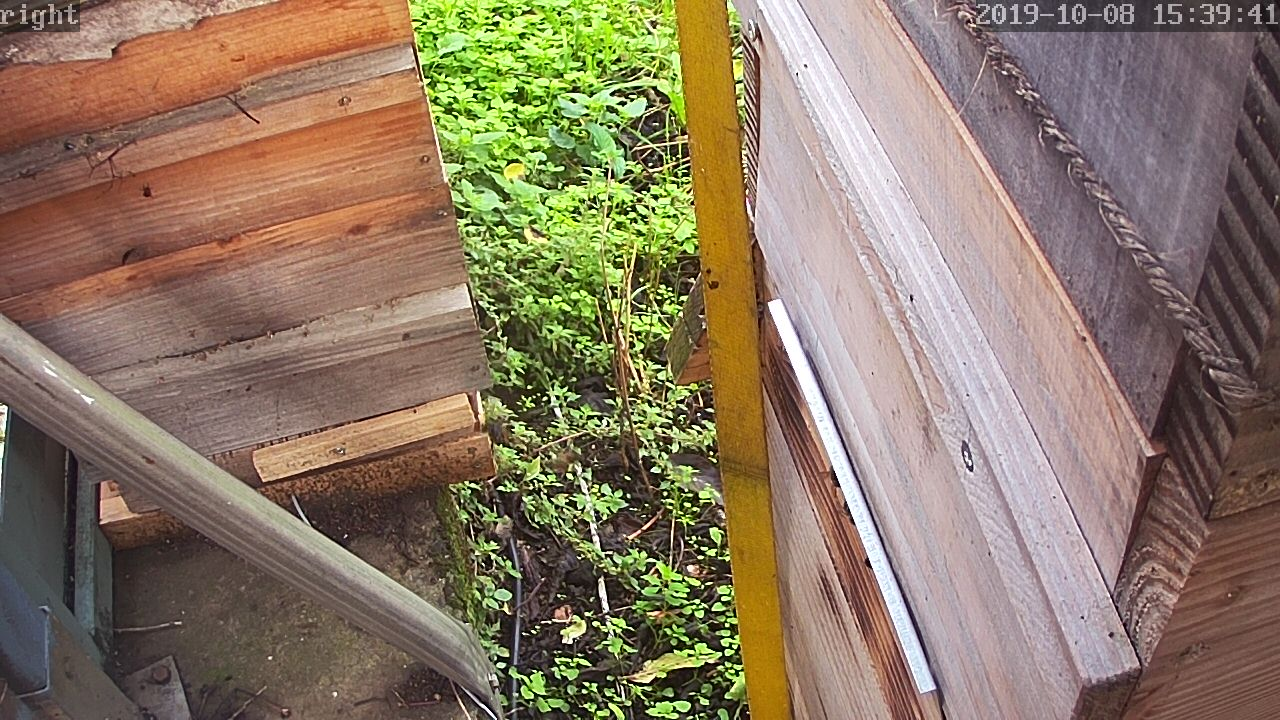hornet: (708, 548, 740, 601)
